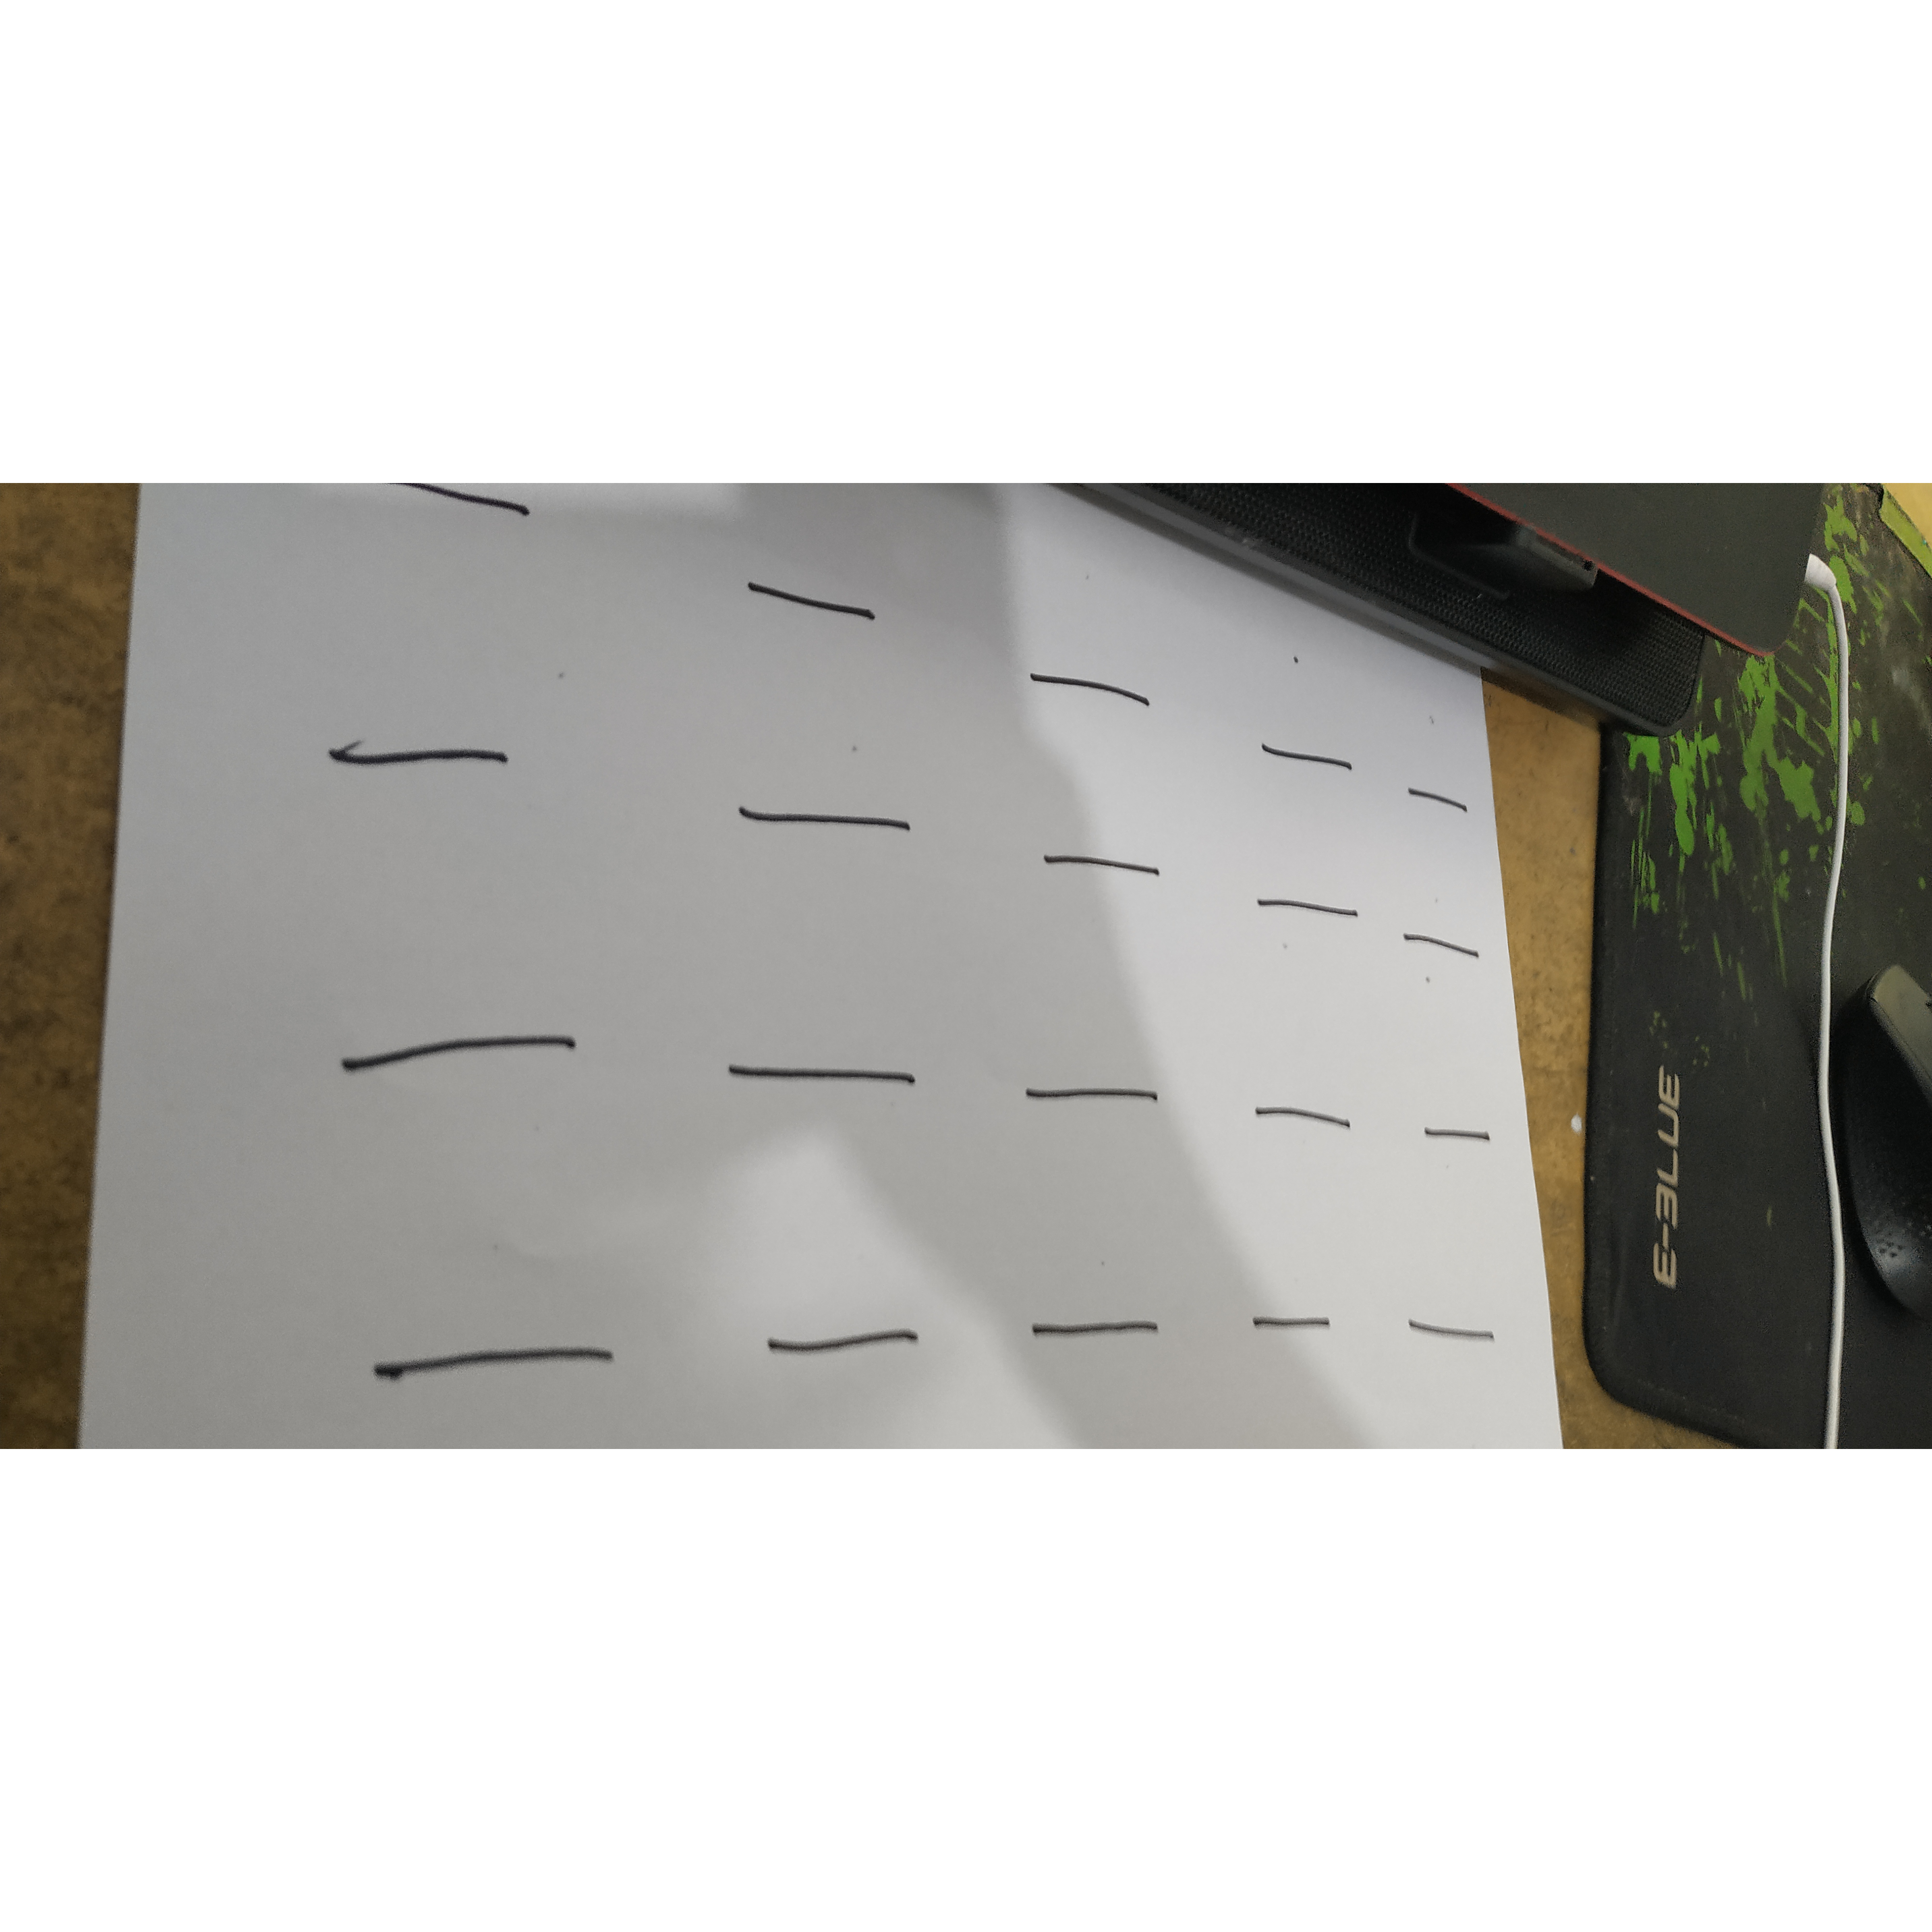min: (295, 997, 623, 1113), (333, 1317, 665, 1403), (301, 710, 568, 809), (713, 1023, 939, 1134), (709, 529, 897, 661), (988, 1037, 1200, 1130), (719, 768, 939, 854), (1007, 634, 1170, 737), (1011, 823, 1181, 916), (1234, 1065, 1380, 1170), (1240, 859, 1378, 955), (744, 1317, 956, 1367), (1248, 712, 1372, 792), (1393, 745, 1483, 852), (1015, 1302, 1198, 1354), (1389, 911, 1505, 991), (1402, 1092, 1511, 1165), (1393, 1306, 1525, 1363), (1240, 1295, 1345, 1352)
